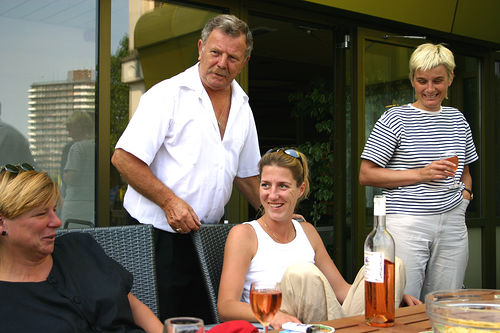without_mask: (4, 175, 70, 261), (191, 21, 254, 87), (258, 153, 312, 222), (408, 48, 455, 105)
